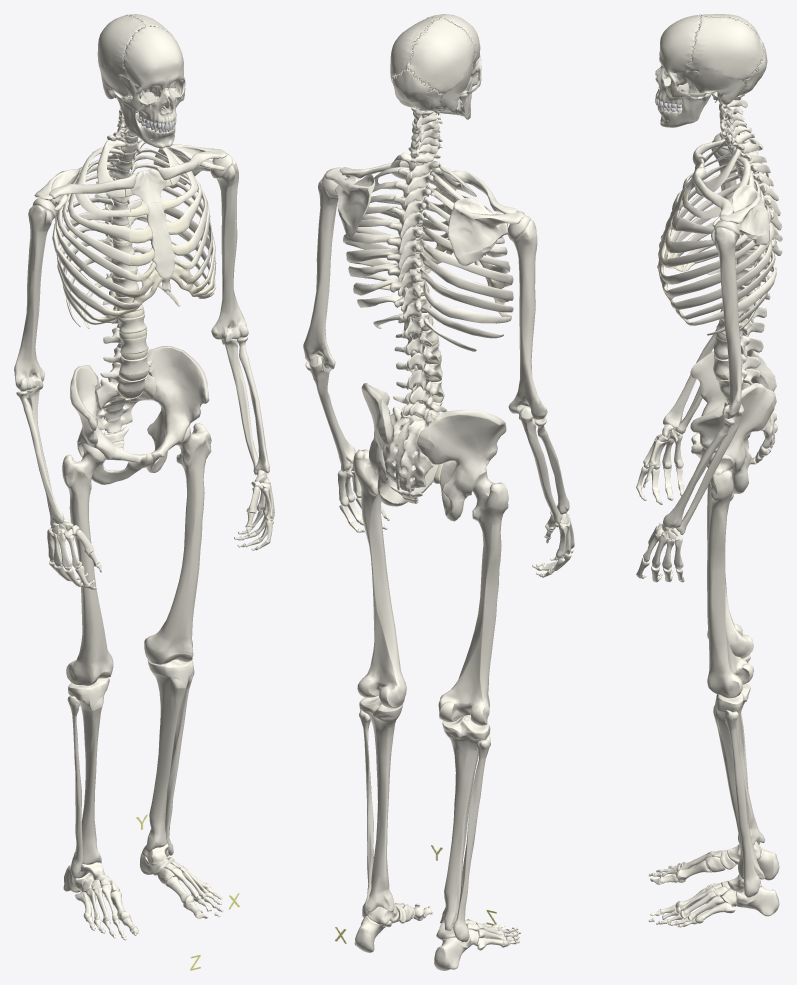
Rendered from 0skeleton1.glb.
3 renders of one model, left to right at view 1: azimuth 30°, elevation 25°; view 2: azimuth 150°, elevation 25°; view 3: azimuth 270°, elevation 25°, orthographic. The views are drawn at different scales.
Parts seen in each view (by area): view 1: lfemur, rfemur, loscoxae, ltibia, rhumerus, lhumrus, roscoxae, frontal, rtibia, sternum, sacrum, parietr (+27 smaller); view 2: rfemur, lfemur, roscoxae, rtibia, ltibia, rhumerus, parietr, lhumrus, rscapula, sacrum, loscoxae, lowleg (+22 smaller); view 3: lfemur, parietl, loscoxae, lhumrus, ltibia, lfibula, lscapula, roscoxae, frontal, templ, lradius, rfemur (+25 smaller).
Part boxes in pixels (bbox=[...]): lfemur: bbox=[144, 423, 211, 664]; rfemur: bbox=[62, 443, 113, 685]; loscoxae: bbox=[141, 346, 209, 472]; ltibia: bbox=[145, 659, 193, 852]; rhumerus: bbox=[14, 198, 56, 391]; lhumrus: bbox=[210, 153, 248, 344]; roscoxae: bbox=[70, 365, 147, 484]; frontal: bbox=[123, 25, 184, 90]; rtibia: bbox=[68, 677, 109, 864]; sternum: bbox=[130, 168, 175, 292]; sacrum: bbox=[95, 372, 156, 433]; parietr: bbox=[97, 14, 145, 78]; rfemur: bbox=[438, 468, 508, 725]; lfemur: bbox=[353, 449, 406, 708]; roscoxae: bbox=[417, 409, 506, 521]; rtibia: bbox=[440, 716, 490, 930]; ltibia: bbox=[359, 695, 402, 912]; rhumerus: bbox=[507, 215, 547, 419]; parietr: bbox=[407, 17, 476, 94]; lhumrus: bbox=[303, 170, 345, 372]; rscapula: bbox=[448, 198, 524, 265]; sacrum: bbox=[382, 406, 434, 492]; loscoxae: bbox=[361, 383, 438, 506]; lowleg: bbox=[453, 735, 490, 941]; lfemur: bbox=[707, 452, 753, 698]; parietl: bbox=[687, 16, 764, 81]; loscoxae: bbox=[690, 383, 776, 493]; lhumrus: bbox=[711, 220, 741, 418]; ltibia: bbox=[713, 683, 765, 879]; lfibula: bbox=[724, 710, 760, 897]; lscapula: bbox=[712, 185, 769, 245]; roscoxae: bbox=[690, 350, 776, 452]; frontal: bbox=[659, 14, 701, 73]; templ: bbox=[688, 69, 745, 104]; lradius: bbox=[663, 418, 734, 527]; rfemur: bbox=[707, 483, 753, 658].
Bounding box in the file's own units: 0.4825 × 1.81 × 0.3255.
Materials: 297 (3 with a texture image).
